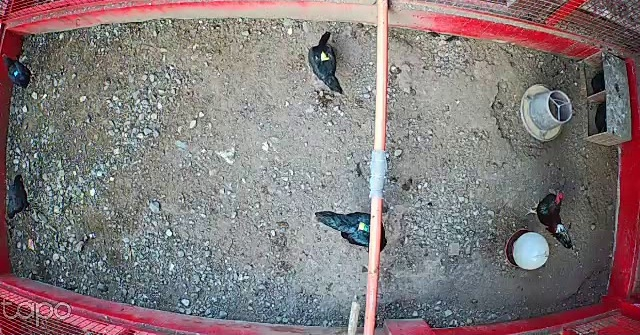Chicken: (313, 207, 391, 256), (307, 31, 342, 95), (2, 52, 38, 92), (6, 173, 36, 220)
Rooster: (522, 185, 577, 247)
Saddle_Color_Blue: (14, 70, 19, 76)
Saddle_Color_Yellow: (318, 51, 329, 61)
Saddle_Color_YellowGreen: (358, 223, 369, 231)
